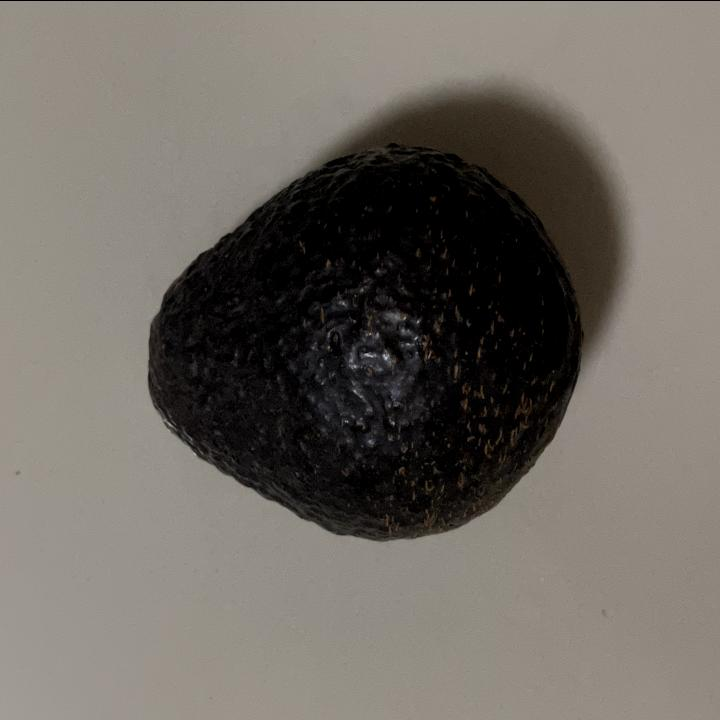Level3: (134, 128, 591, 554)
